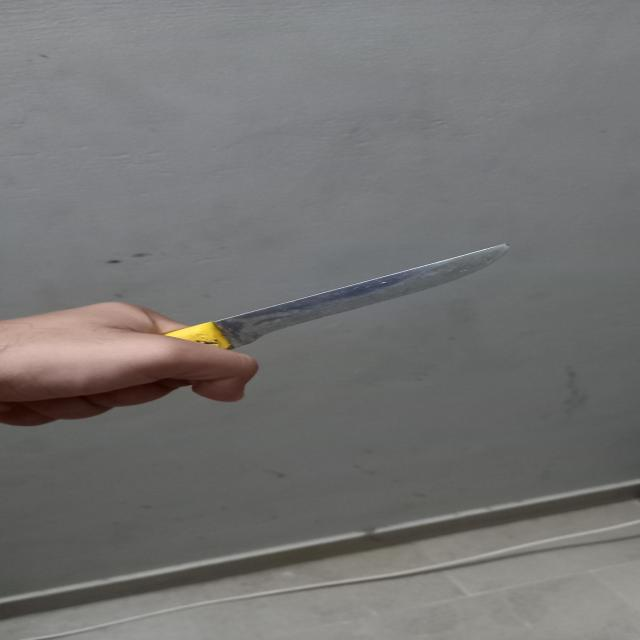Knife: (155, 244, 516, 351)
Person: (0, 301, 256, 426)
